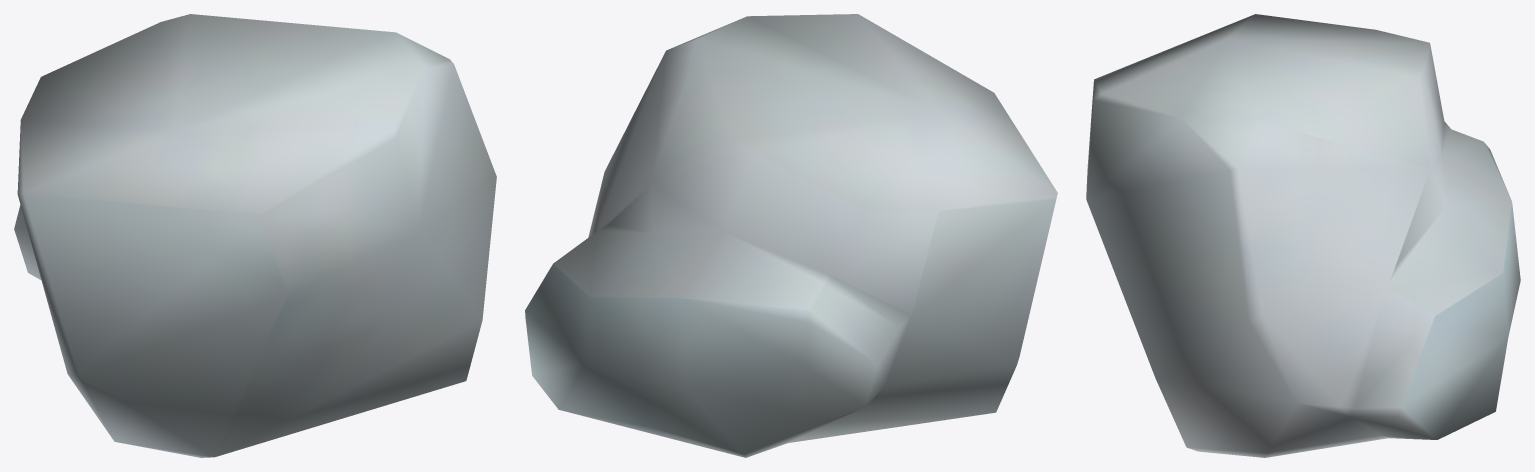
The model's file is P_RockSpire_Rock04.obj.
The picture shows the model from 3 angles, left to right: view 1: azimuth 30°, elevation 25°; view 2: azimuth 150°, elevation 25°; view 3: azimuth 270°, elevation 25°; orthographic projection. The views are drawn at different scales.
Size of the model in its own units: 4.29 by 2.86 by 3.54.
